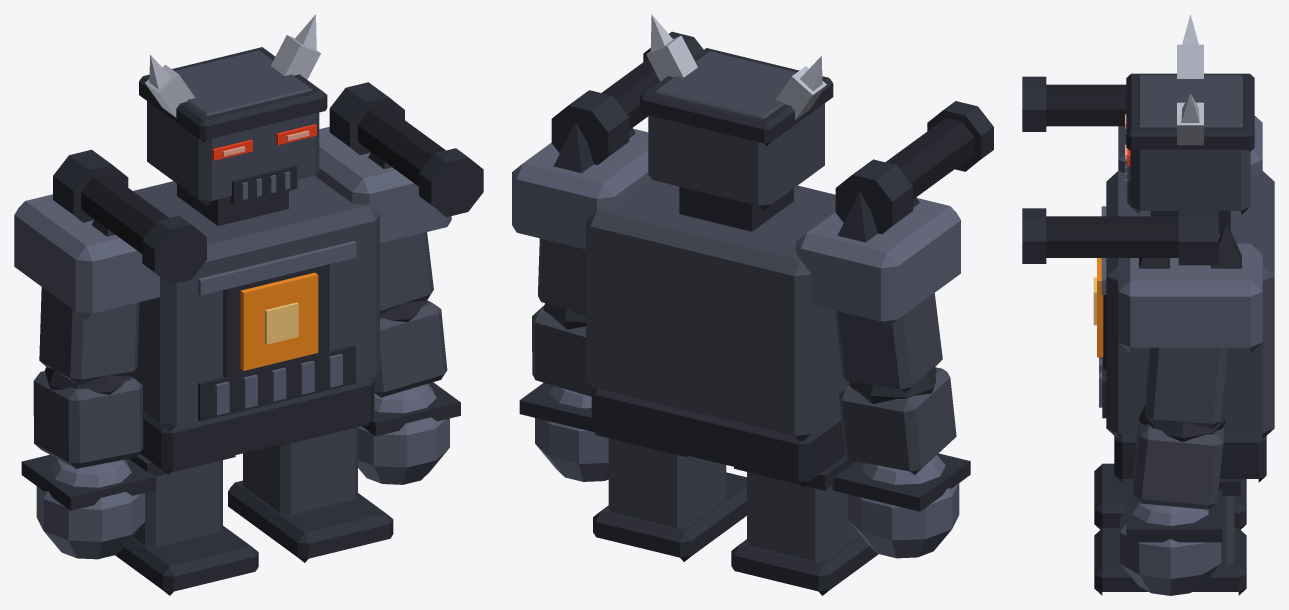
The model's file is boss_colossus.glb.
3 renders of one model, left to right at view 1: azimuth 30°, elevation 25°; view 2: azimuth 150°, elevation 25°; view 3: azimuth 270°, elevation 25°, orthographic. The views are drawn at different scales.
Visible parts, largest first — view 1: boss_colossus_mesh; view 2: boss_colossus_mesh; view 3: boss_colossus_mesh.
Part boxes in pixels (bbox=[...]): boss_colossus_mesh: bbox=[14, 14, 483, 595]; boss_colossus_mesh: bbox=[512, 14, 993, 595]; boss_colossus_mesh: bbox=[1022, 14, 1274, 595].
Bounding box in the file's own units: 5.66 × 6.8 × 3.17.
Materials: 1 (1 with a texture image).
